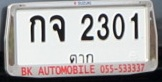txt01: (27, 14, 46, 43)
txt06: (49, 14, 66, 43)
